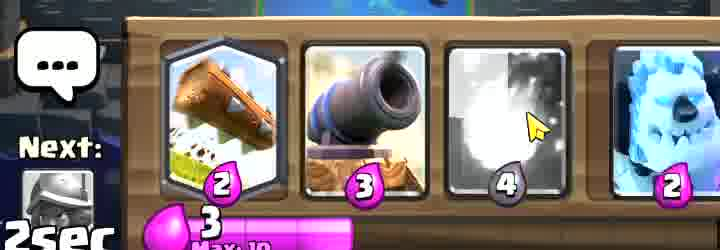cannon: (305, 52, 410, 193)
ice-golem: (615, 49, 720, 195)
log: (167, 43, 281, 188)
